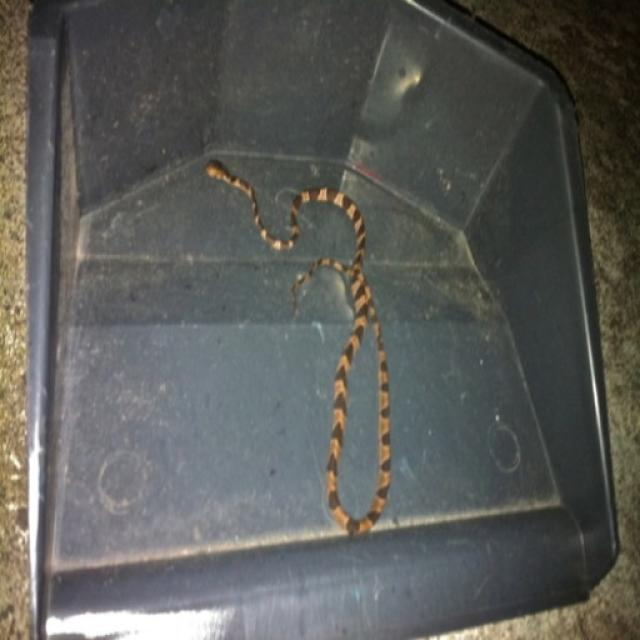snake: (196, 136, 425, 544)
